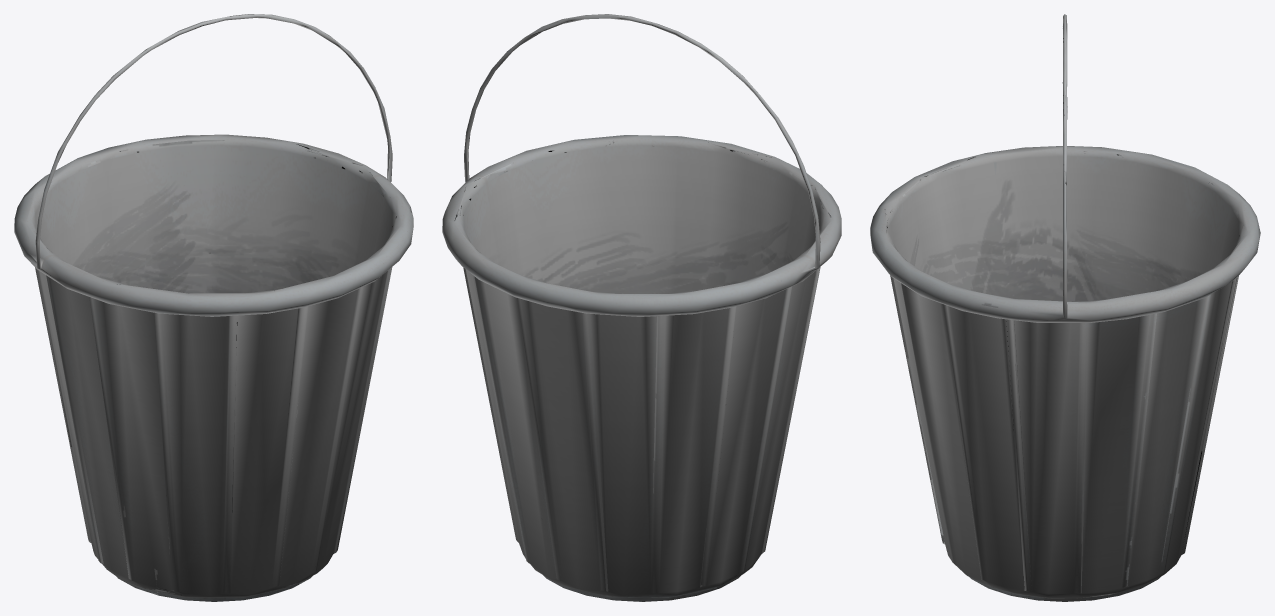
Rendered from bucket.fbx.
3 views of the same model, side by side, from view 1: azimuth 30°, elevation 25°; view 2: azimuth 150°, elevation 25°; view 3: azimuth 270°, elevation 25° (orthographic). The views are drawn at different scales.
Visible parts, largest first — view 1: Paint Bucket; view 2: Paint Bucket; view 3: Paint Bucket.
Boxes of the visible parts, x1,y1,x2,y2 form: Paint Bucket: (14, 14, 413, 601); Paint Bucket: (442, 14, 841, 601); Paint Bucket: (870, 14, 1260, 601).
Bounding box in the file's own units: 32.62 × 46.9 × 31.74.
Materials: 1 (1 with a texture image).
